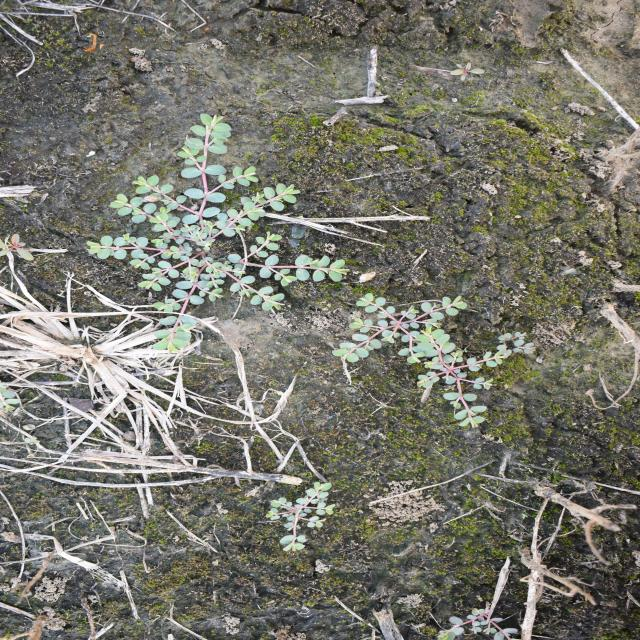SpottedSpurge: (83, 113, 354, 355), (331, 292, 539, 431), (263, 480, 339, 554), (432, 608, 530, 638)
